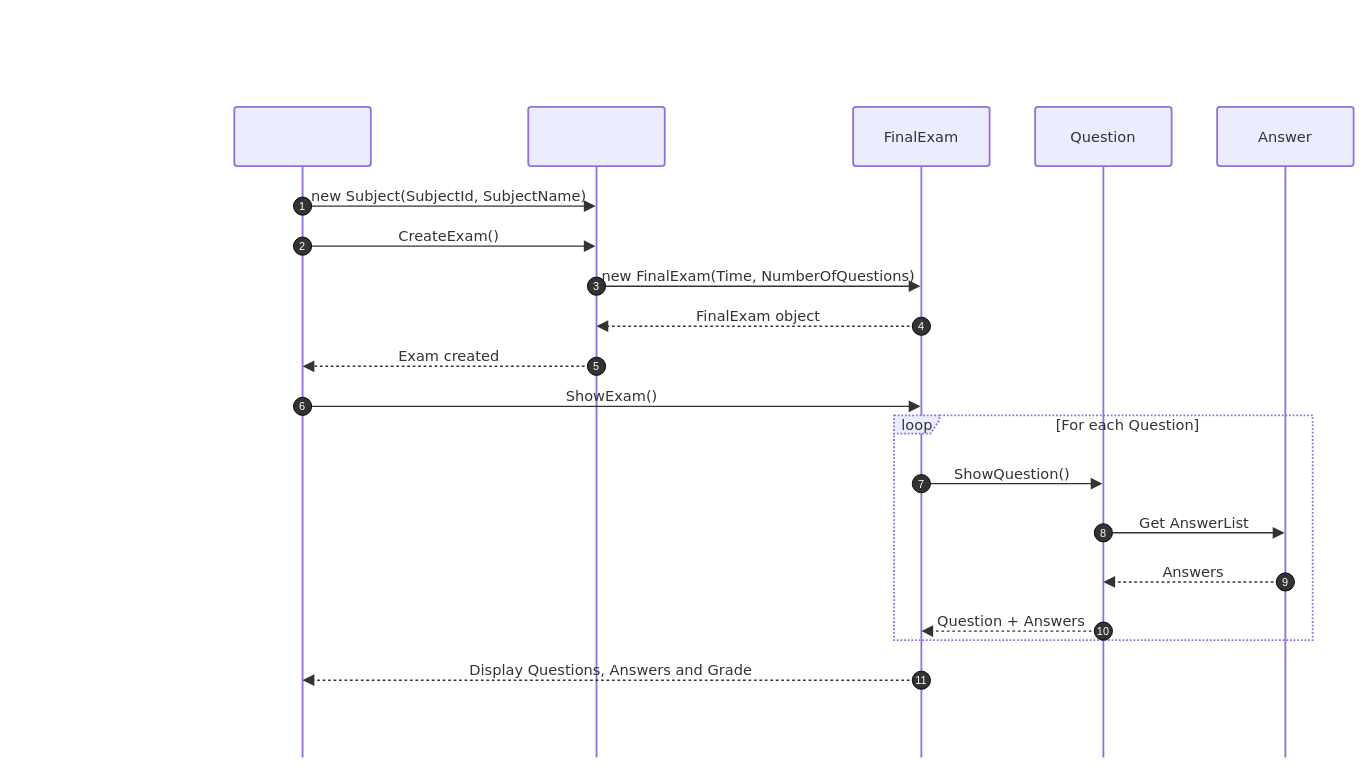
The diagram is 1370 pixels wide and 774 high, and some of its shapes have lost their labels. The box of each missing label's shape, as (x1, y1, x2, y2) in pixels:
Main: (233, 106, 371, 758)
Subject: (527, 106, 665, 758)
